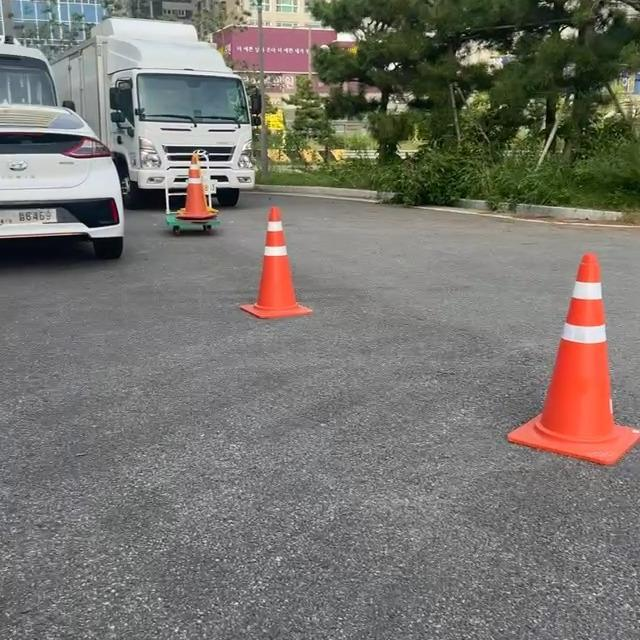fallen_object: (476, 235, 640, 530), (217, 187, 344, 347), (170, 142, 237, 255)
